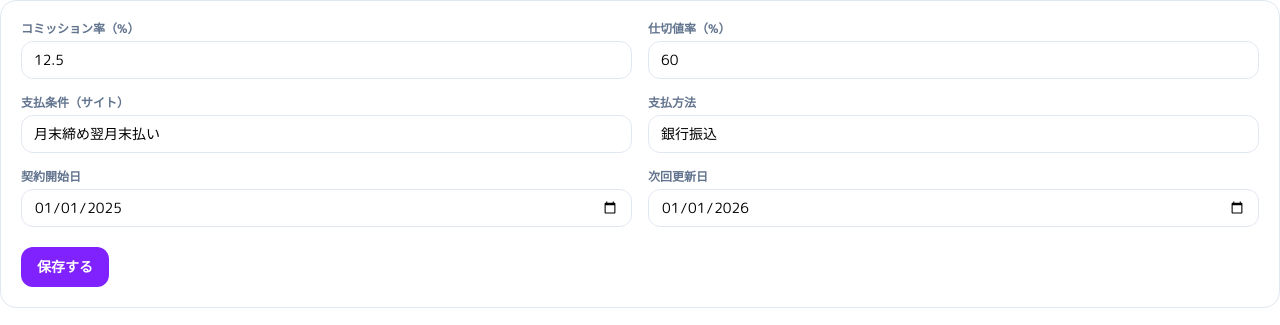
Test: ClinicTermsManager › 「保存する」でPUTし、成功トーストを表示する
Check: the number field showing "12.5" below "コミッション率（%）" is shown, box [21,41,632,79]
Click the button "保存する". click: (65, 267)
box: [21,247,109,287]
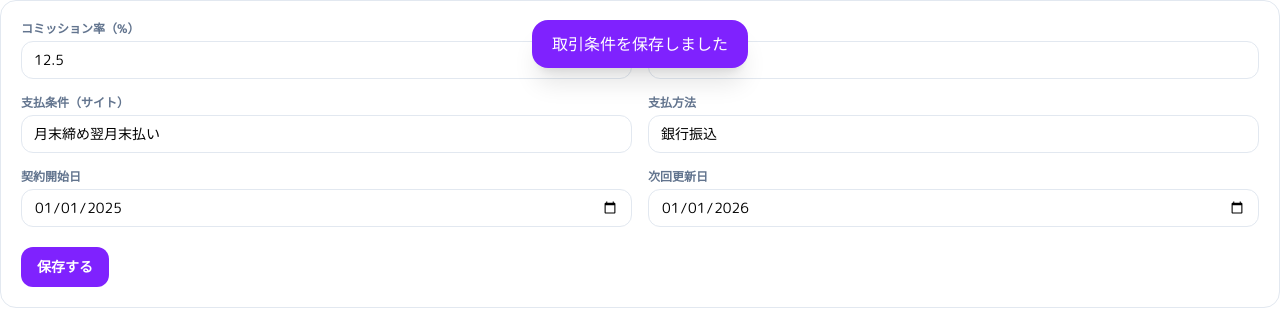
Check: the text "取引条件を保存しました" is shown, box [532,20,748,68]
